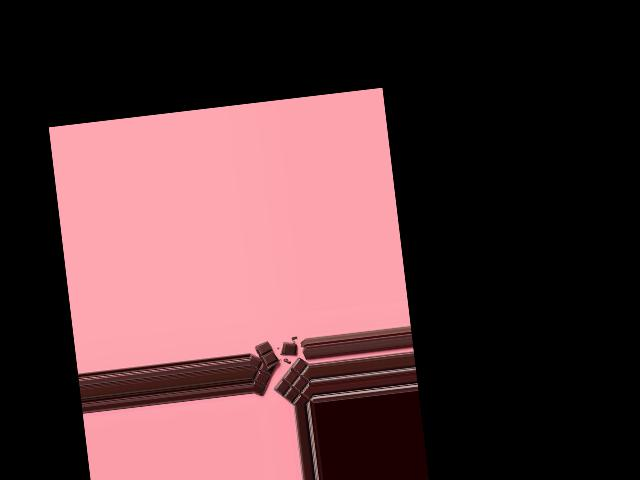chocolate: (252, 340, 313, 410)
